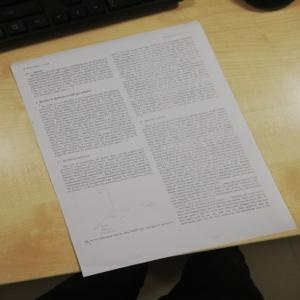text: (145, 104, 270, 225), (113, 31, 219, 117), (37, 87, 137, 156), (65, 149, 152, 192), (26, 60, 113, 92)
